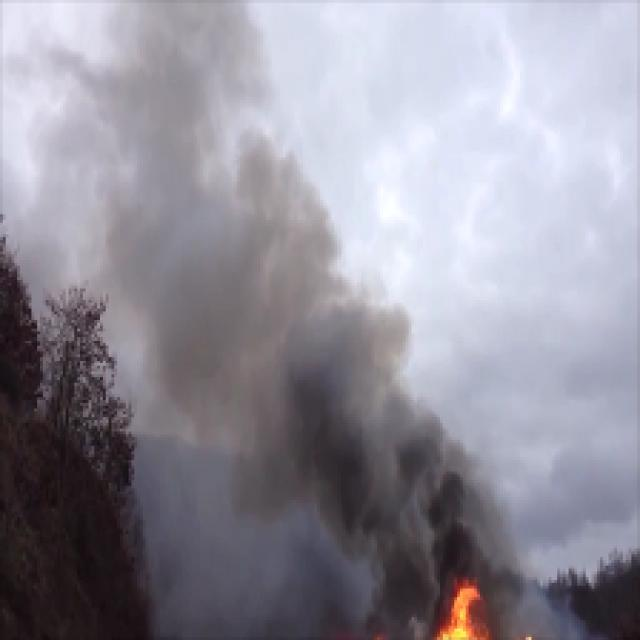fire: (437, 591, 474, 640)
smoke: (164, 201, 330, 414), (336, 357, 414, 550), (419, 476, 486, 580)
